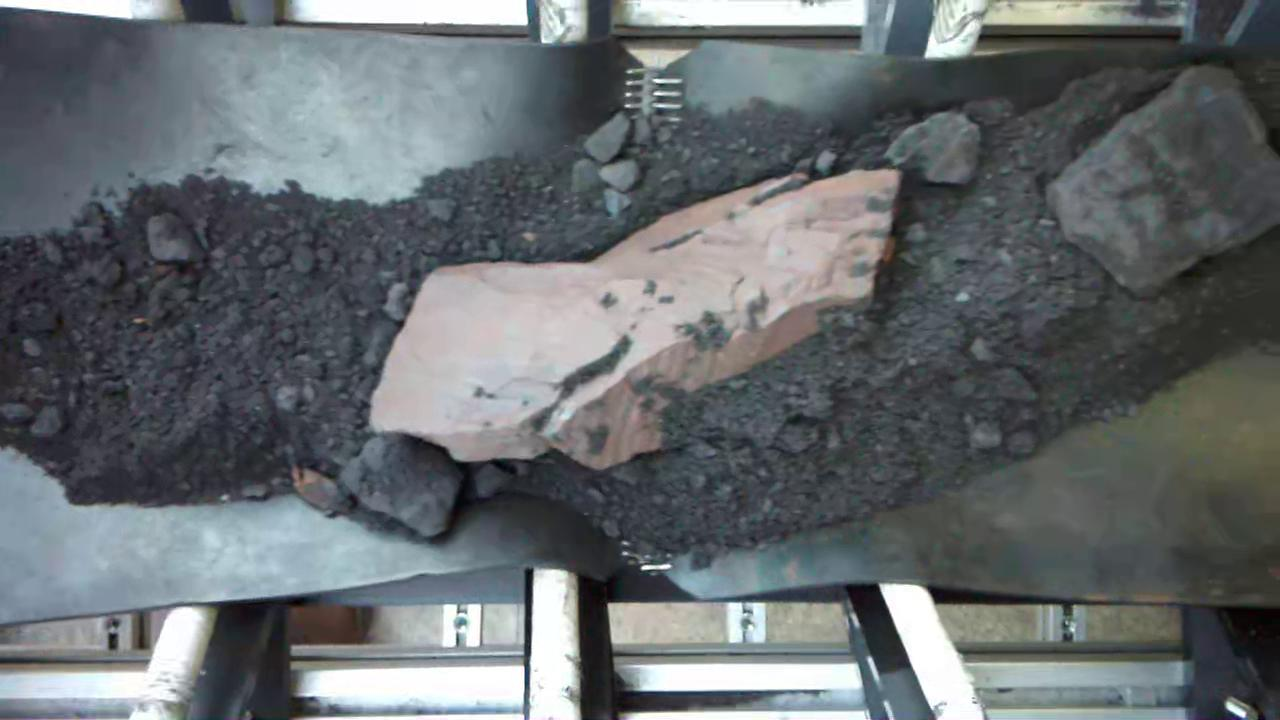conveyor: (3, 56, 1280, 594)
